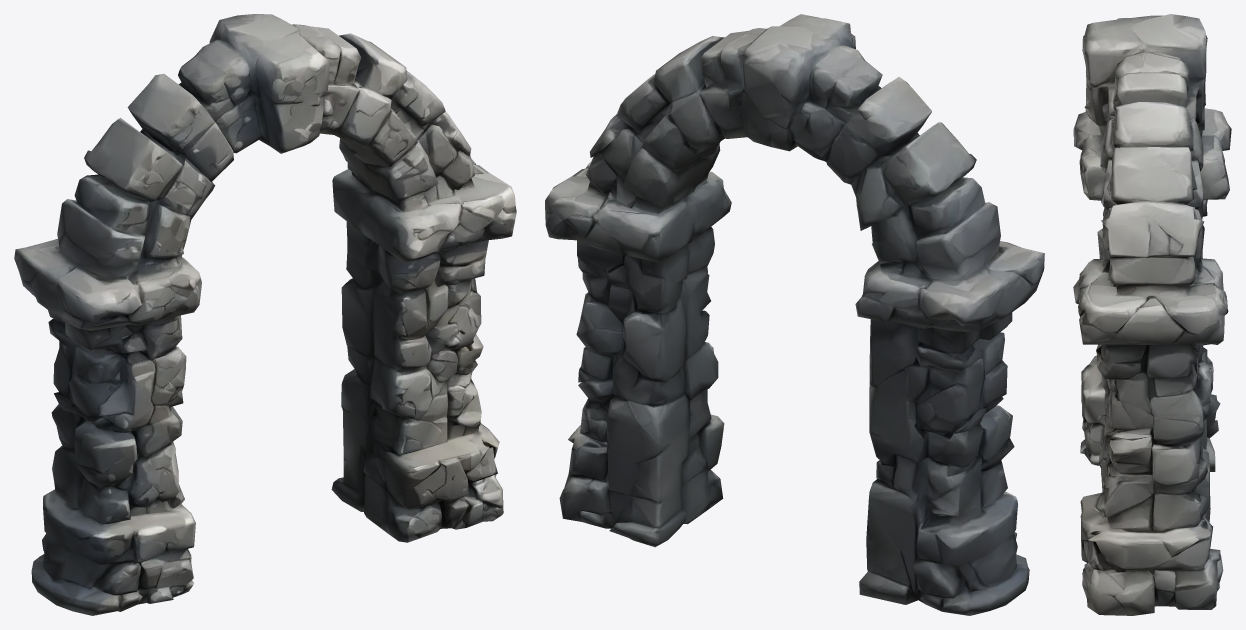
Rendered from city_gate.glb.
3 views of the same model, side by side, from view 1: azimuth 30°, elevation 25°; view 2: azimuth 150°, elevation 25°; view 3: azimuth 270°, elevation 25° (orthographic). The views are drawn at different scales.
Visible parts, largest first — view 1: tripo_node_1bb3f130-dcaf-4c01-9aee-be55a694fe17; view 2: tripo_node_1bb3f130-dcaf-4c01-9aee-be55a694fe17; view 3: tripo_node_1bb3f130-dcaf-4c01-9aee-be55a694fe17.
Part boxes in pixels (x1,y1,x2,y2): tripo_node_1bb3f130-dcaf-4c01-9aee-be55a694fe17: (14, 14, 516, 615); tripo_node_1bb3f130-dcaf-4c01-9aee-be55a694fe17: (545, 14, 1044, 615); tripo_node_1bb3f130-dcaf-4c01-9aee-be55a694fe17: (1073, 14, 1231, 615).
Size of the model in its own units: 0.9034 by 1 by 0.2912.
Materials: 1 (1 with a texture image).
